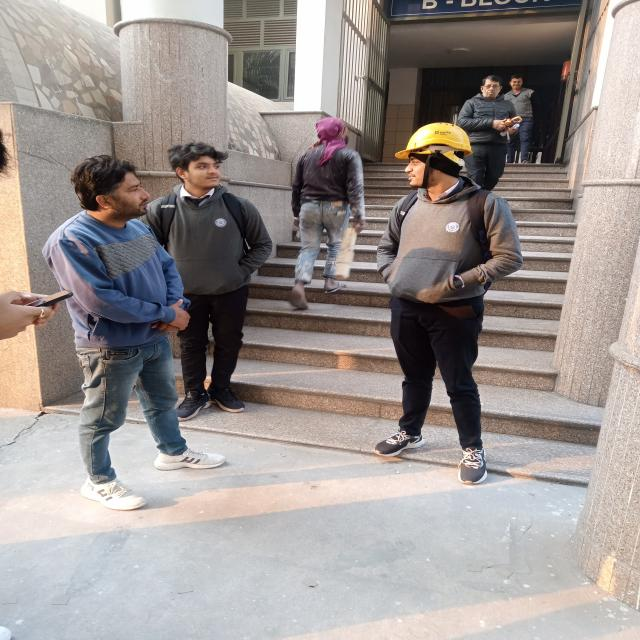no jacket: (378, 117, 517, 486)
unsafe: (46, 152, 224, 514), (155, 142, 269, 420), (292, 118, 366, 311), (460, 72, 511, 197), (507, 72, 536, 162)
